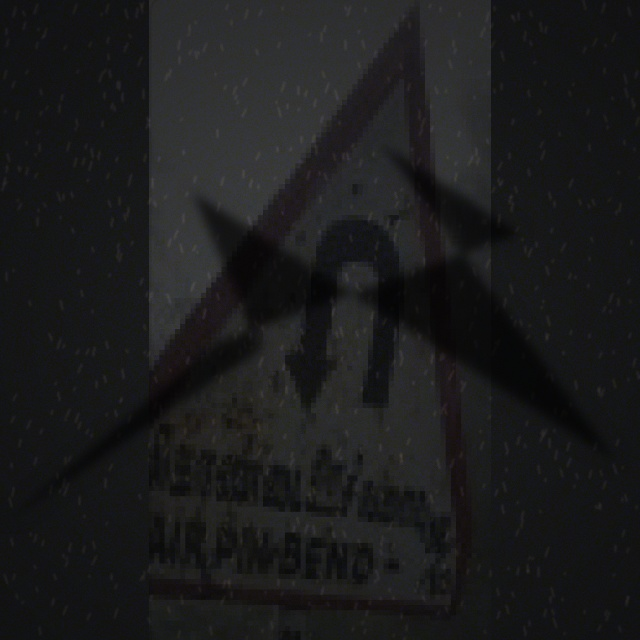Left_Hair_Pin_Bend: (250, 191, 449, 434)
